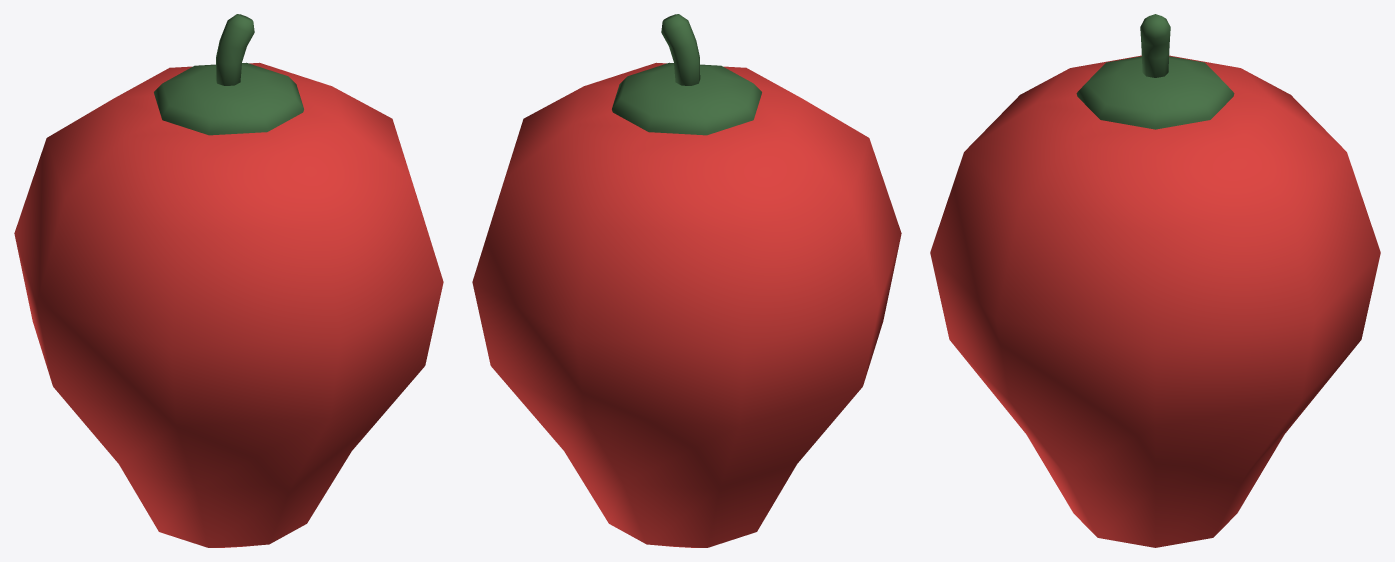
Rendered from Strawberry_01.fbx.
3 renders of one model, left to right at view 1: azimuth 30°, elevation 25°; view 2: azimuth 150°, elevation 25°; view 3: azimuth 270°, elevation 25°, orthographic.
Visible parts, largest first — view 1: Strawberry_01; view 2: Strawberry_01; view 3: Strawberry_01.
Part boxes in pixels (left/top/right/bottom): Strawberry_01: left=14, top=14, right=443, bottom=547; Strawberry_01: left=472, top=14, right=901, bottom=547; Strawberry_01: left=930, top=14, right=1380, bottom=547.
Size of the model in its own units: 0.1956 by 0.252 by 0.1956.
